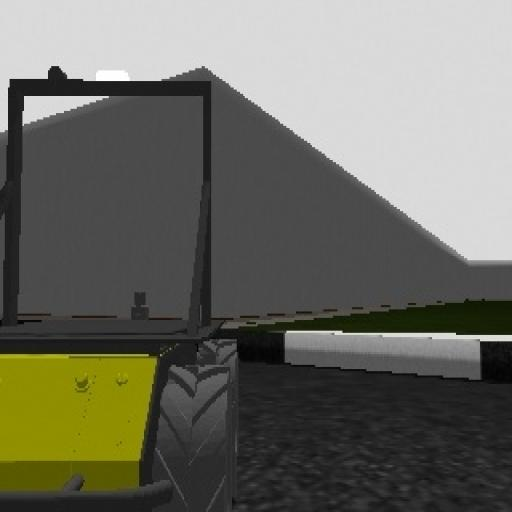huskya200: (0, 57, 277, 512)
